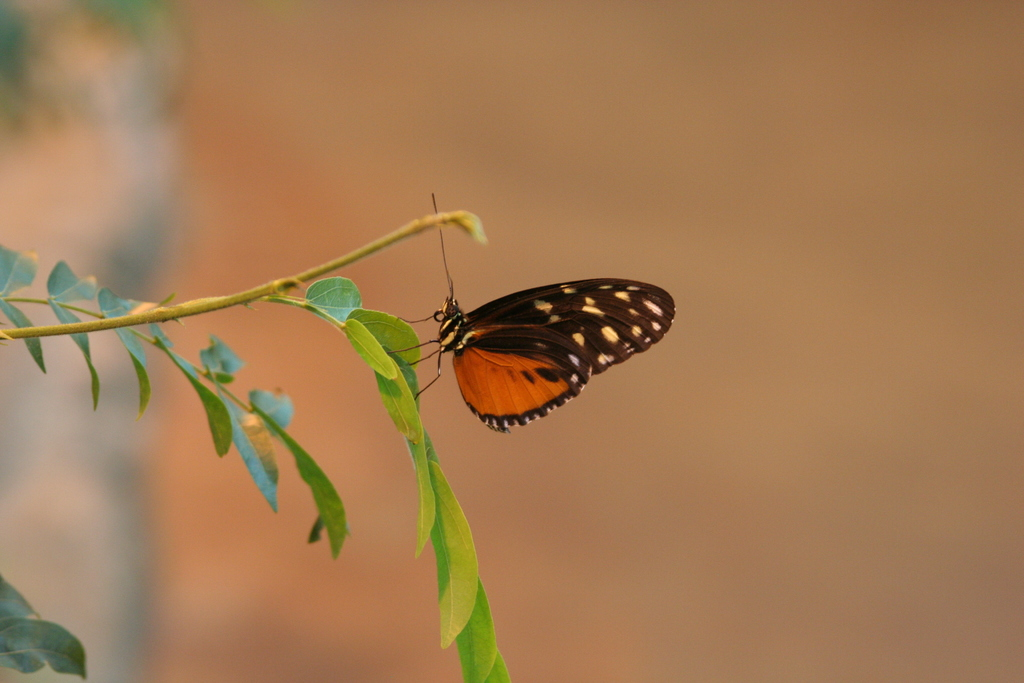Butterfly: (415, 273, 673, 430)
